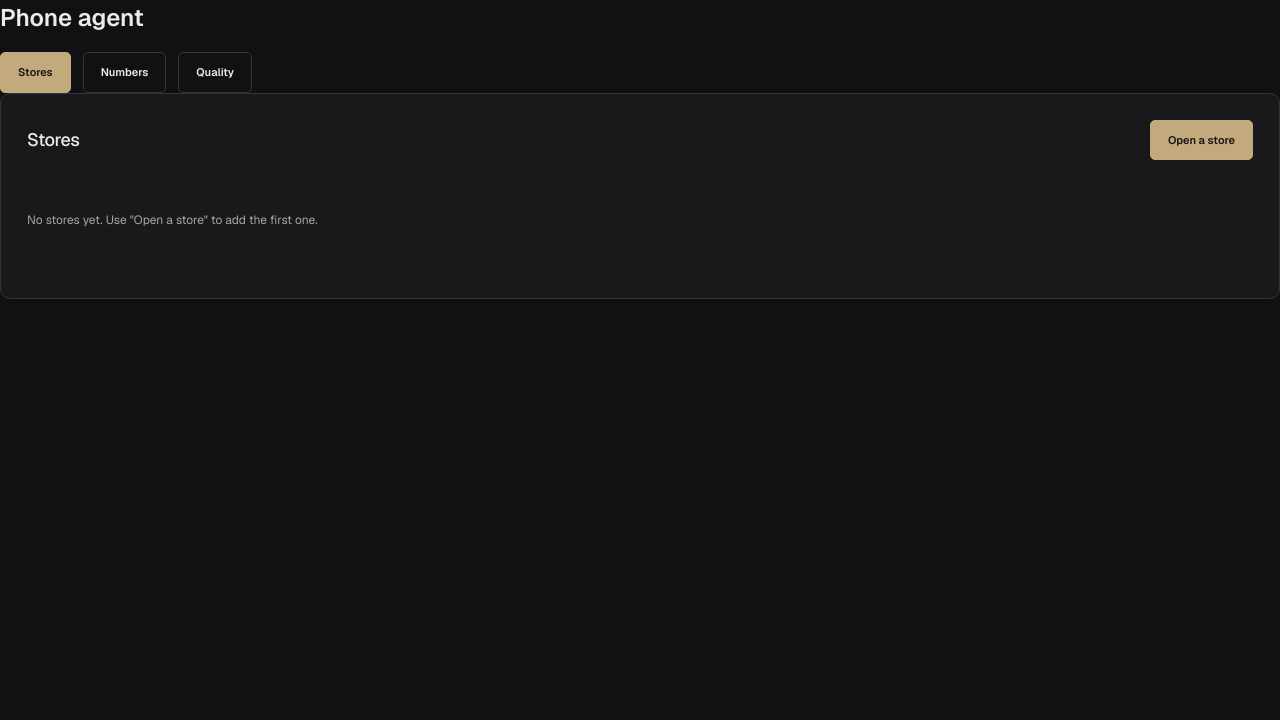
Test: admin phone agent section › offers the Quality tab with the listening log below it (en)
This screenshot has width=1280, height=720.
Click the tab "Quality": (215, 72) x1=178 y1=52 x2=252 y2=92
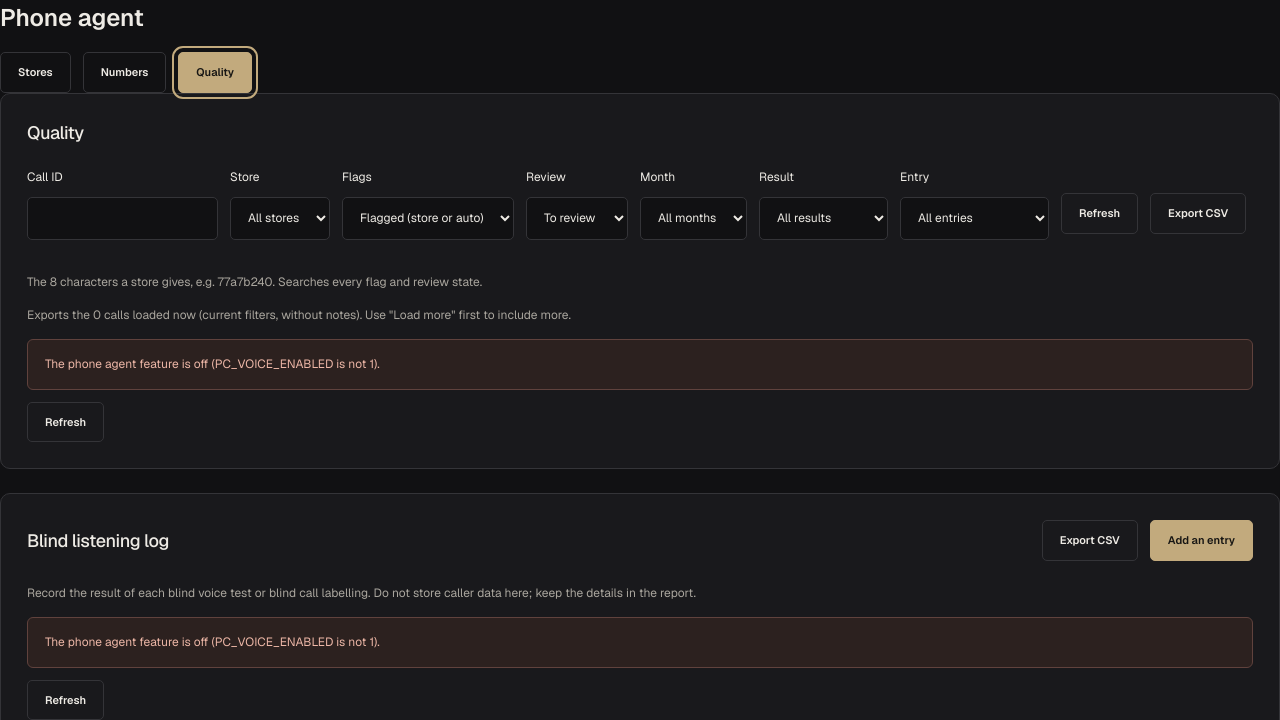
Expected: the heading "Quality" is shown, x1=27 y1=120 x2=84 y2=146
Expected: the heading "Blind listening log" is shown, x1=27 y1=528 x2=169 y2=554
